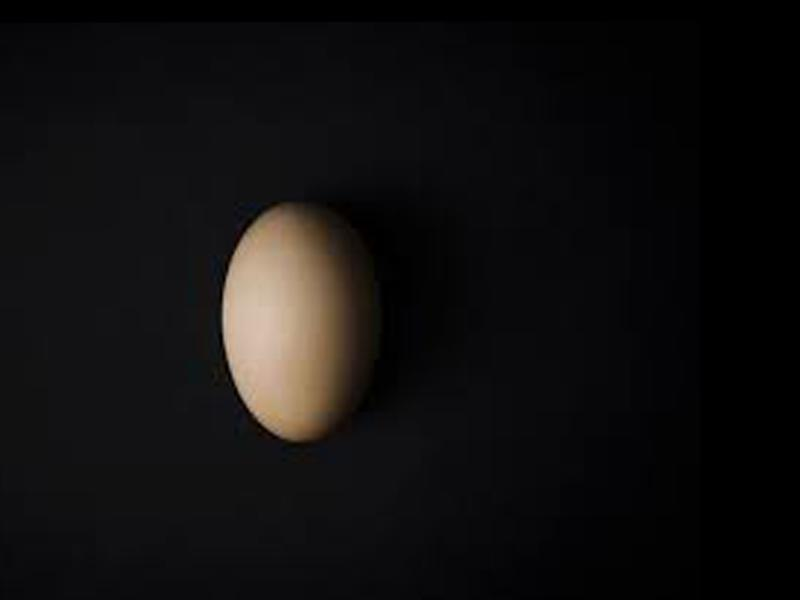Eggs: (222, 198, 376, 447)
